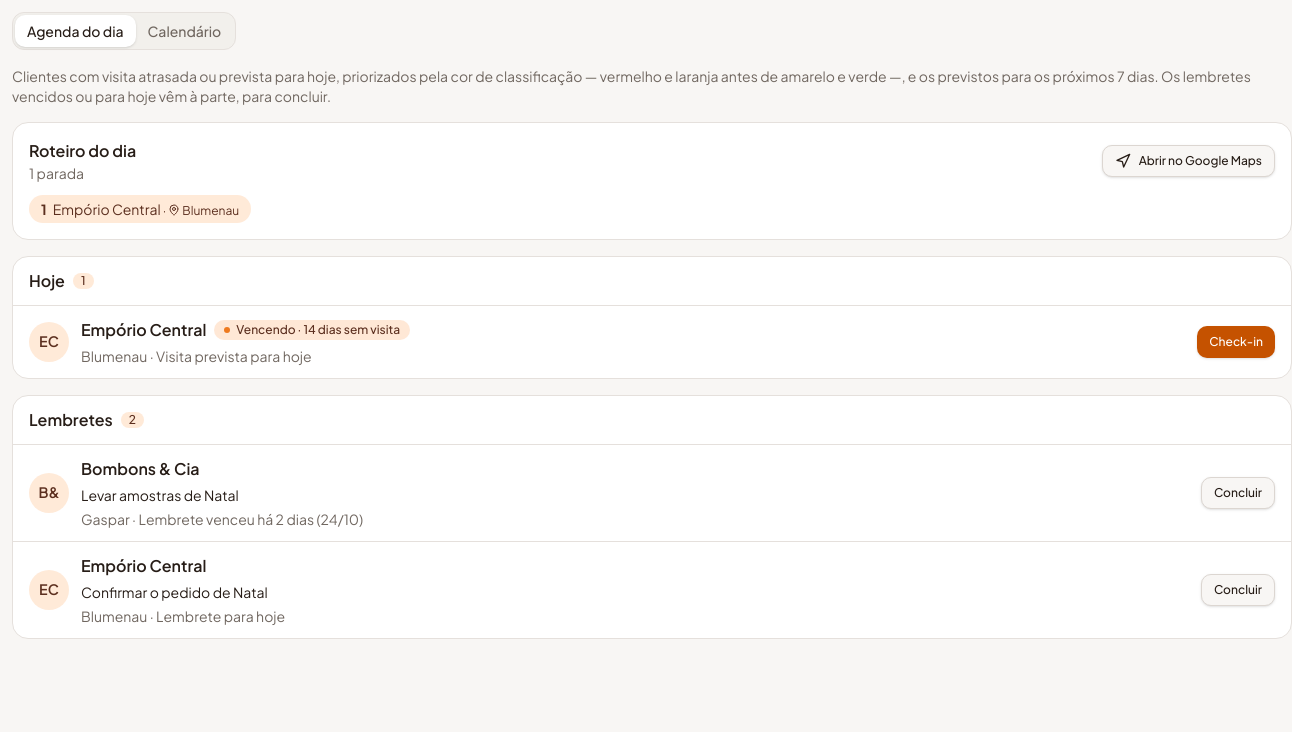
Test: AgendaPage — lembretes › "Concluir" conclui o lembrete e a linha some da agenda
The image size is (1292, 732).
Expected: the element named "Lembretes · 2" is shown, [12,395,1291,639]
Click the button with aria-label "Concluir lembrete de Bombons & Cia: Levar amostras de Natal".
click(1238, 493)  # box [1201,477,1275,509]
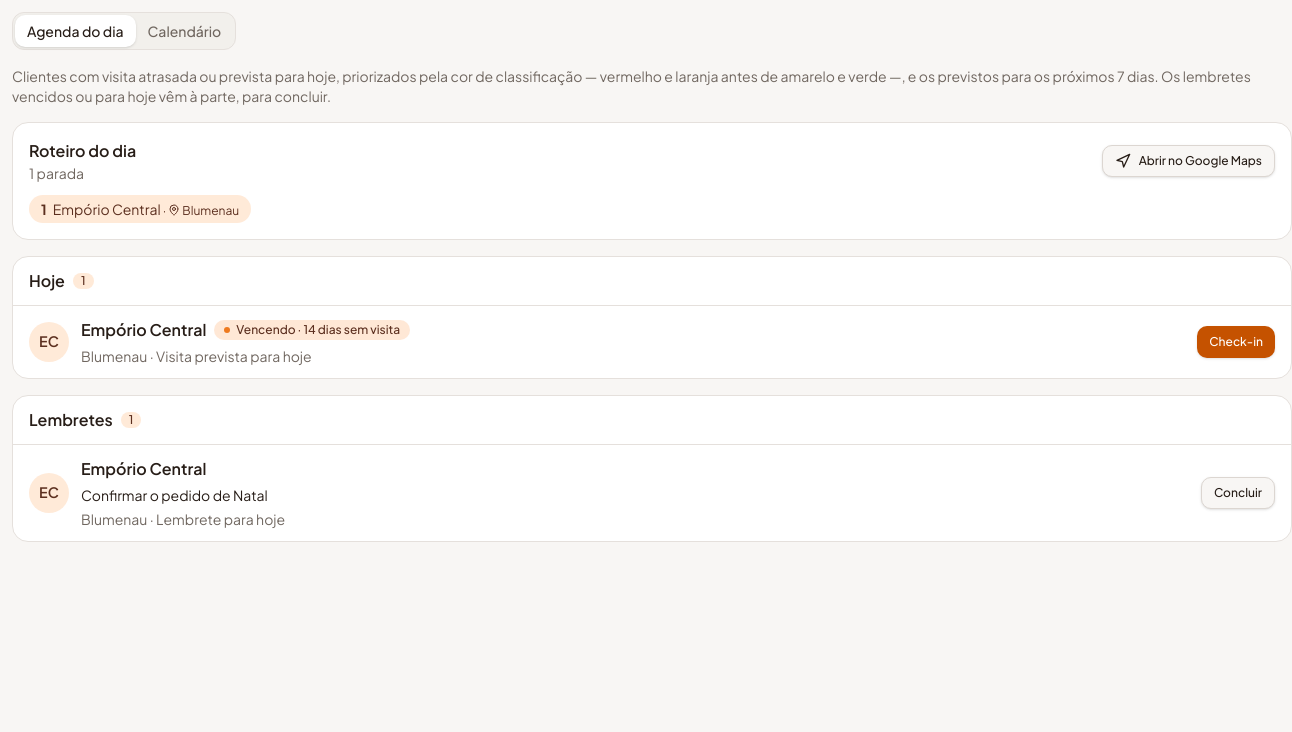
Expected: the element named "Lembretes · 1" shows "Empório Central", [23,451,1195,535]
Result: the element named "Lembretes · 1" no longer shows "Bombons & Cia" at [12,395,1291,542]
